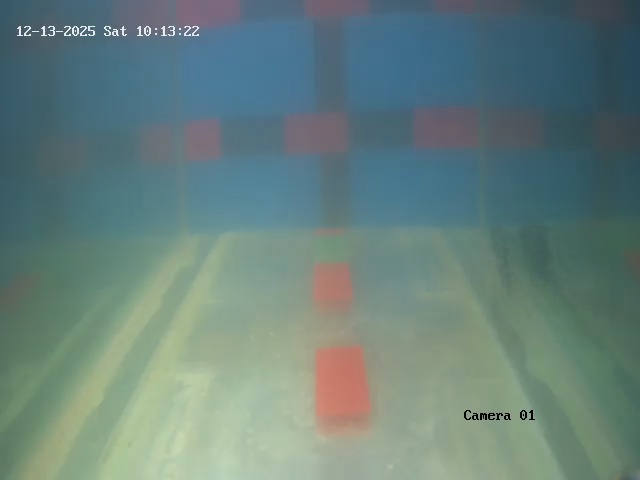fish: (482, 224, 519, 323)
